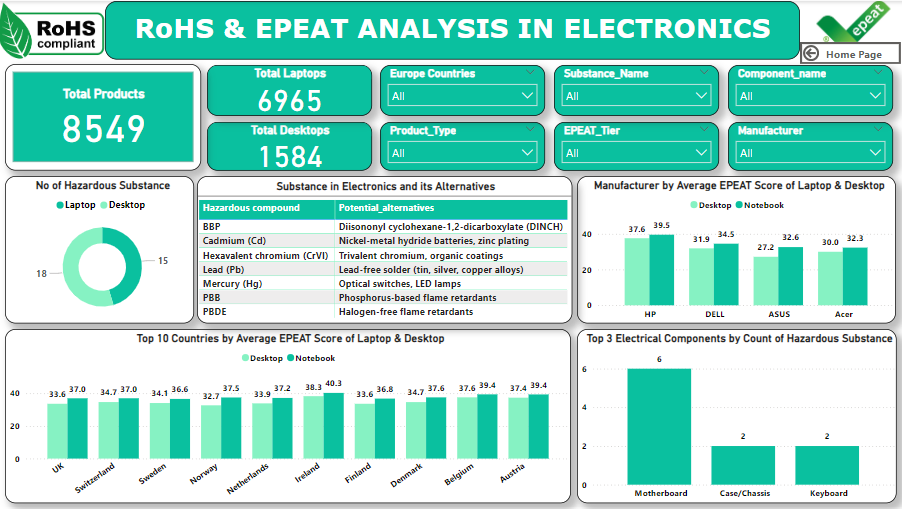

Layout of this report page (visuals, bound fields, positions):
{"tool":"powerbi","page":{"name":"DESKTOP vs LAPTOP","canvas":[1280,720],"ordinal":2},"visuals":[{"type":"textbox","box":[151.7,0,985,83.3],"z":0},{"type":"image","box":[1123.3,0,156.7,58.3],"z":1000},{"type":"image","box":[0,0,165.2,84.1],"z":2000},{"type":"slicer","fields":{"Values":["Europe.Manufacturer"]},"box":[1034.6,171.5,233.9,69.4],"z":3000},{"type":"slicer","fields":{"Values":["Europe.EPEAT_Tier"]},"box":[788,171.5,233.9,69.4],"z":4000},{"type":"slicer","fields":{"Values":["Europe.Product_Type"]},"box":[541.4,171.5,233.9,69.4],"z":5000},{"type":"slicer","fields":{"Values":["Europe.Registered_In"]},"box":[541.4,90.7,233.9,72.3],"z":6000},{"type":"card","title":"Total Desktops","fields":{"Values":["CountNonNull(Europe.Product_Type)"]},"box":[296.2,171.5,233.9,69.4],"z":7000},{"type":"card","title":"Total Laptops","fields":{"Values":["CountNonNull(Europe.Product_Type)"]},"box":[296.2,90.7,233.9,72.3],"z":8000},{"type":"slicer","fields":{"Values":["BOM_RoHS.component_name"]},"box":[1034.6,90.7,233.9,72.3],"z":9000},{"type":"slicer","fields":{"Values":["BOM_RoHS.substance_name"]},"box":[788,90.7,233.9,72.3],"z":10000},{"type":"cardVisual","fields":{"Data":["CountNonNull(Europe.Id)"]},"box":[9.2,89.2,278.5,150.8],"z":11000},{"type":"donutChart","title":"No of Hazardous Substance","fields":{"Y":["Sum(BOM_RoHS.in_laptop)","Sum(BOM_RoHS.in_desktop)"]},"box":[9.2,247.7,267.7,209.2],"z":12000},{"type":"clusteredColumnChart","title":"Top 10 Countries by Average EPEAT Score of Laptop & Desktop","fields":{"Category":["Europe.Registered_In"],"Series":["Europe.Product_Type"],"Y":["Avg(Europe.EPEAT_Score_out_of_49)"]},"box":[10,465,801.7,246.7],"z":13000},{"type":"clusteredColumnChart","title":"Manufacturer by Average EPEAT Score of Laptop & Desktop","fields":{"Category":["Europe.Manufacturer"],"Y":["Avg(Europe.EPEAT_Score_out_of_49)"],"Series":["Europe.Product_Type"]},"box":[820,247.7,452.3,209.2],"z":14000},{"type":"tableEx","title":"Substance in Electronics and its Alternatives","fields":{"Values":["BOM_RoHS.substance_name","BOM_RoHS.potential_alternatives"]},"box":[281.5,247.7,532.3,209.2],"z":15000},{"type":"columnChart","title":"Top 3 Electrical Components by Count of Hazardous Substance","fields":{"Y":["CountNonNull(BOM_RoHS.substance_name)"],"Category":["BOM_RoHS.component_name"]},"box":[820,465,453.3,246.7],"z":16000},{"type":"actionButton","box":[1137,58.6,143,31.5],"z":17000}]}

Visuals, with their boxes in screenshot pixels (x1, y1, x2, y2), scaled from the page's 1280x720 canvas onto the 902x509 screenshot:
textbox: [107, 0, 801, 59]
image: [792, 0, 901, 41]
image: [0, 0, 116, 59]
slicer - Europe.Manufacturer: [729, 121, 894, 170]
slicer - Europe.EPEAT_Tier: [555, 121, 720, 170]
slicer - Europe.Product_Type: [382, 121, 546, 170]
slicer - Europe.Registered_In: [382, 64, 546, 115]
"Total Desktops" card: [209, 121, 374, 170]
"Total Laptops" card: [209, 64, 374, 115]
slicer - BOM_RoHS.component_name: [729, 64, 894, 115]
slicer - BOM_RoHS.substance_name: [555, 64, 720, 115]
cardVisual - CountNonNull(Europe.Id): [6, 63, 203, 170]
"No of Hazardous Substance" donutChart: [6, 175, 195, 323]
"Top 10 Countries by Average EPEAT Score of Laptop & Desktop" clusteredColumnChart: [7, 329, 572, 503]
"Manufacturer by Average EPEAT Score of Laptop & Desktop" clusteredColumnChart: [578, 175, 897, 323]
"Substance in Electronics and its Alternatives" tableEx: [198, 175, 573, 323]
"Top 3 Electrical Components by Count of Hazardous Substance" columnChart: [578, 329, 897, 503]
actionButton: [801, 41, 901, 64]
